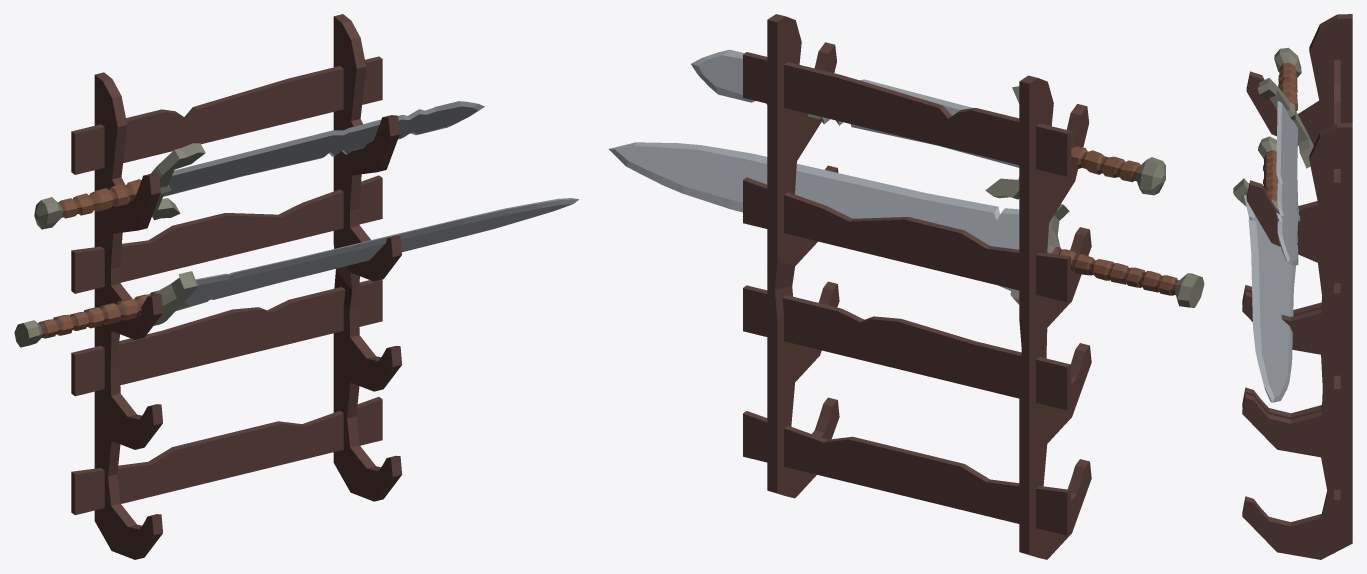
File: SwordWallMount-transformed.glb
The picture shows the model from 3 angles, left to right: view 1: azimuth 30°, elevation 25°; view 2: azimuth 150°, elevation 25°; view 3: azimuth 270°, elevation 25°; orthographic projection. The views are drawn at different scales.
Visible parts, largest first — view 1: Sword_WallMount; view 2: Sword_WallMount; view 3: Sword_WallMount.
Part boxes in pixels (x1=…): Sword_WallMount: x1=14, y1=14, x2=578, y2=559; Sword_WallMount: x1=609, y1=14, x2=1204, y2=559; Sword_WallMount: x1=1233, y1=14, x2=1352, y2=559.
Size of the model in its own units: 1.07 by 0.8472 by 0.2117.
1 material, 1 textured.
